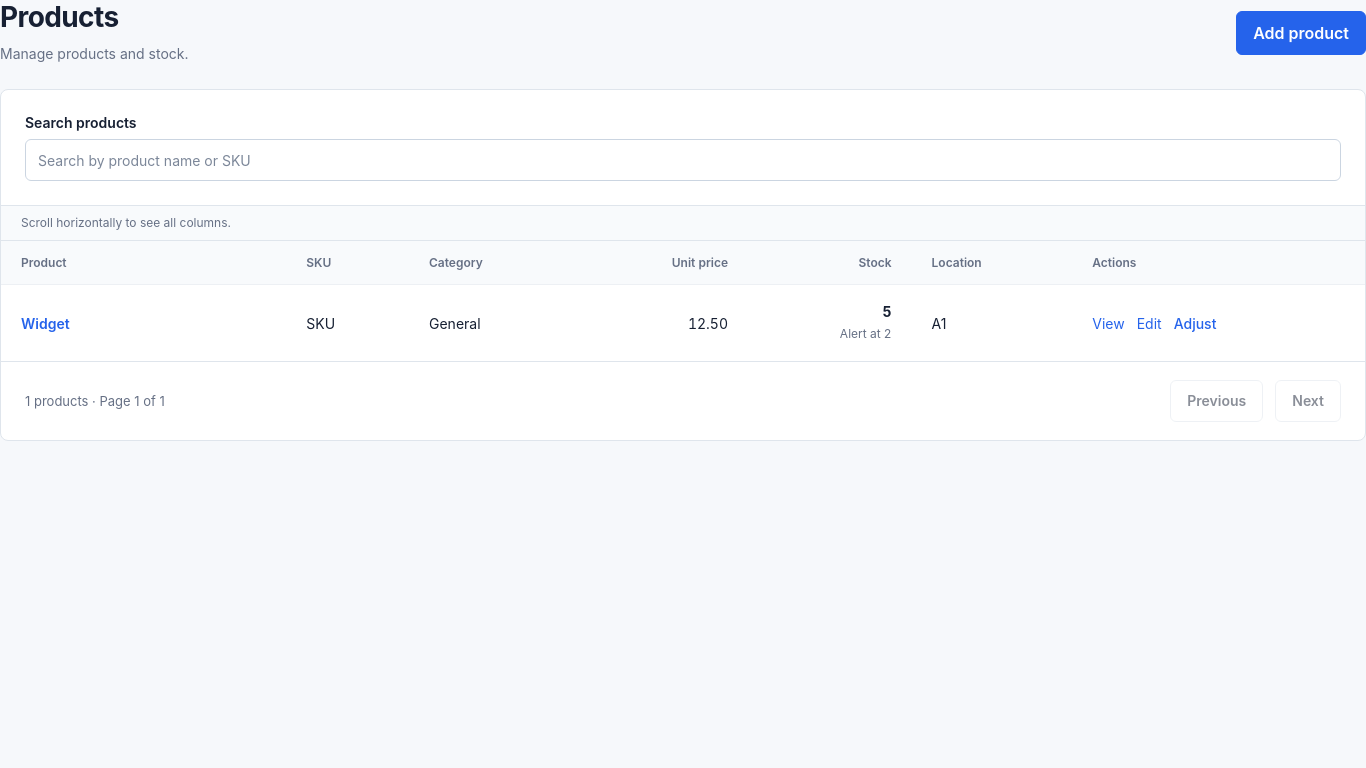
Test case: keeps adjustment errors and values inside the dialog, then retries the same payload once
Click the button "Adjust".
click(1195, 323)  # box [1174,308,1216,339]
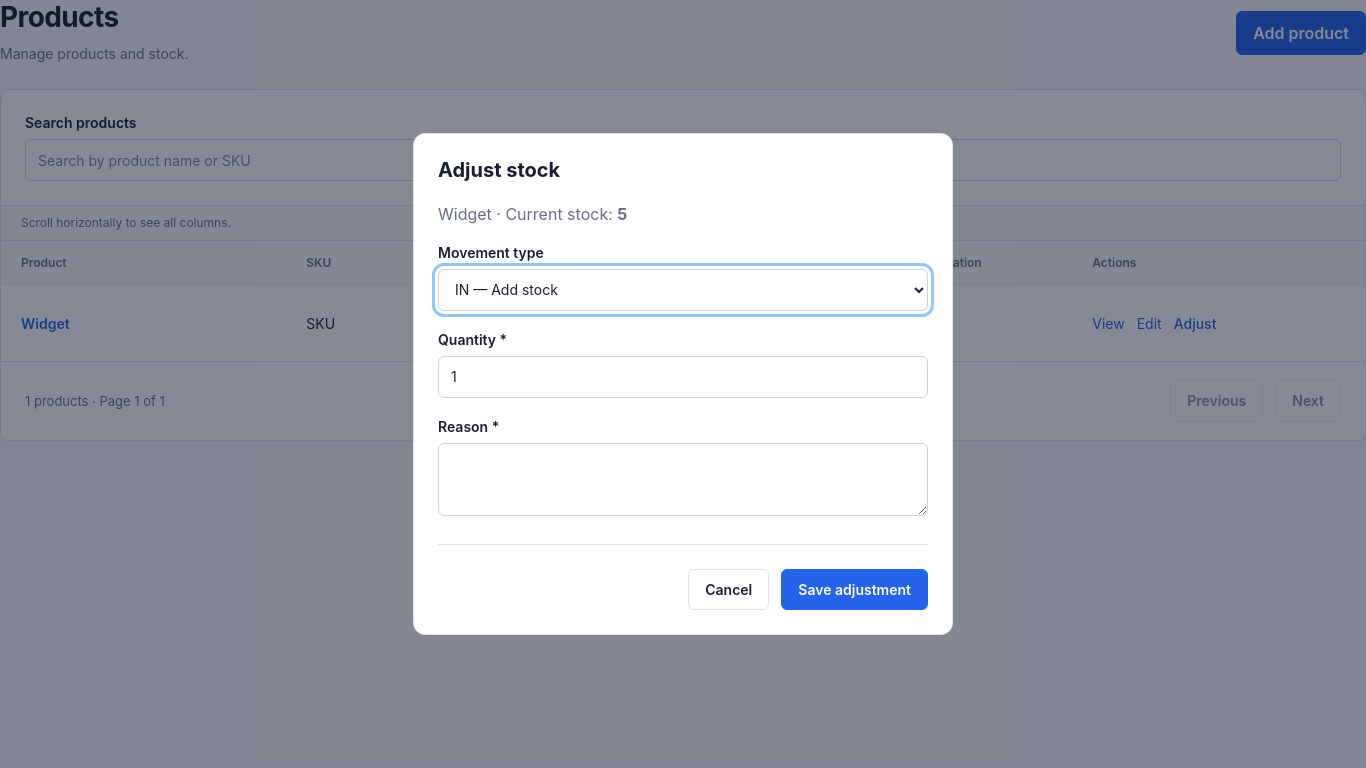
Select "OUT — Remove stock" in the dropdown labelled "Movement type" at (683, 290), box [438,268,928,310]
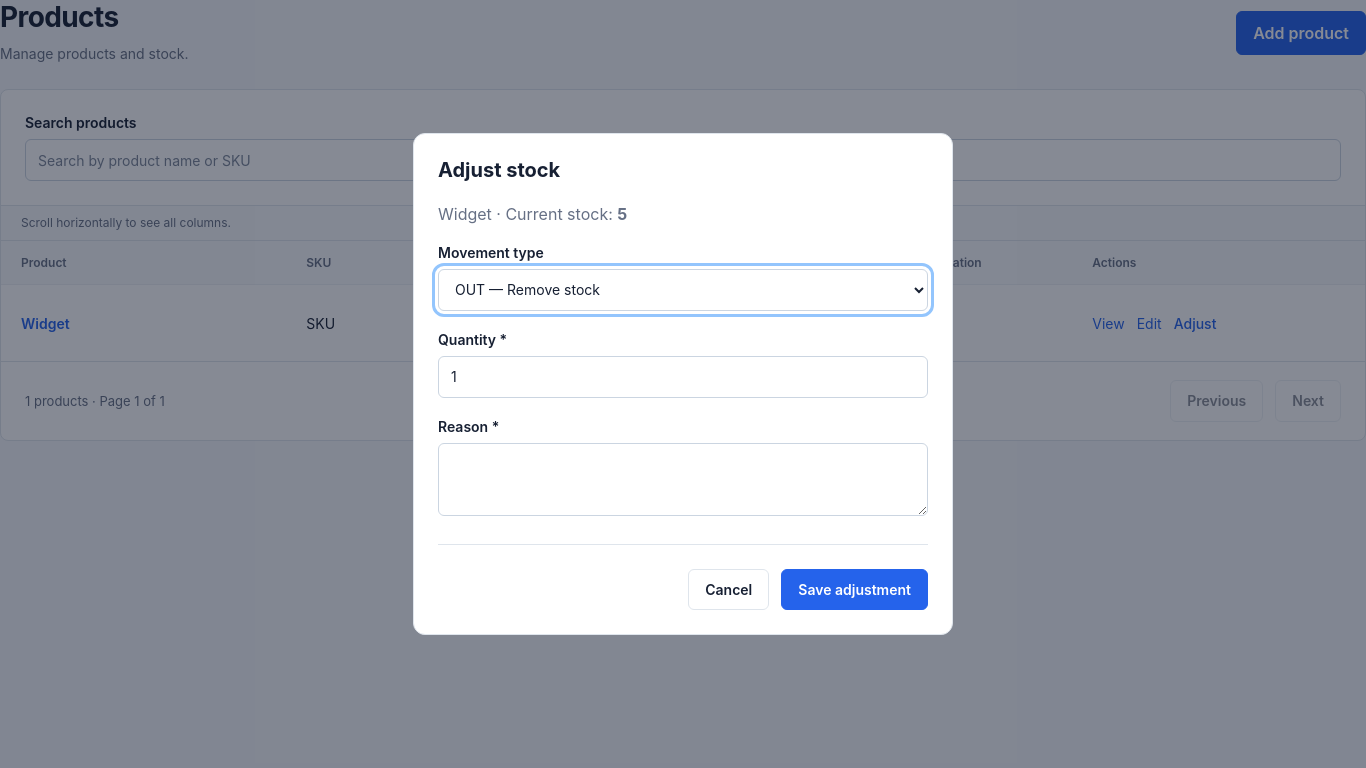
Type "Dispatch correction" into the text box labelled "Reason *".
click(683, 479); type("Dispatch correction")  # box [438,442,928,516]
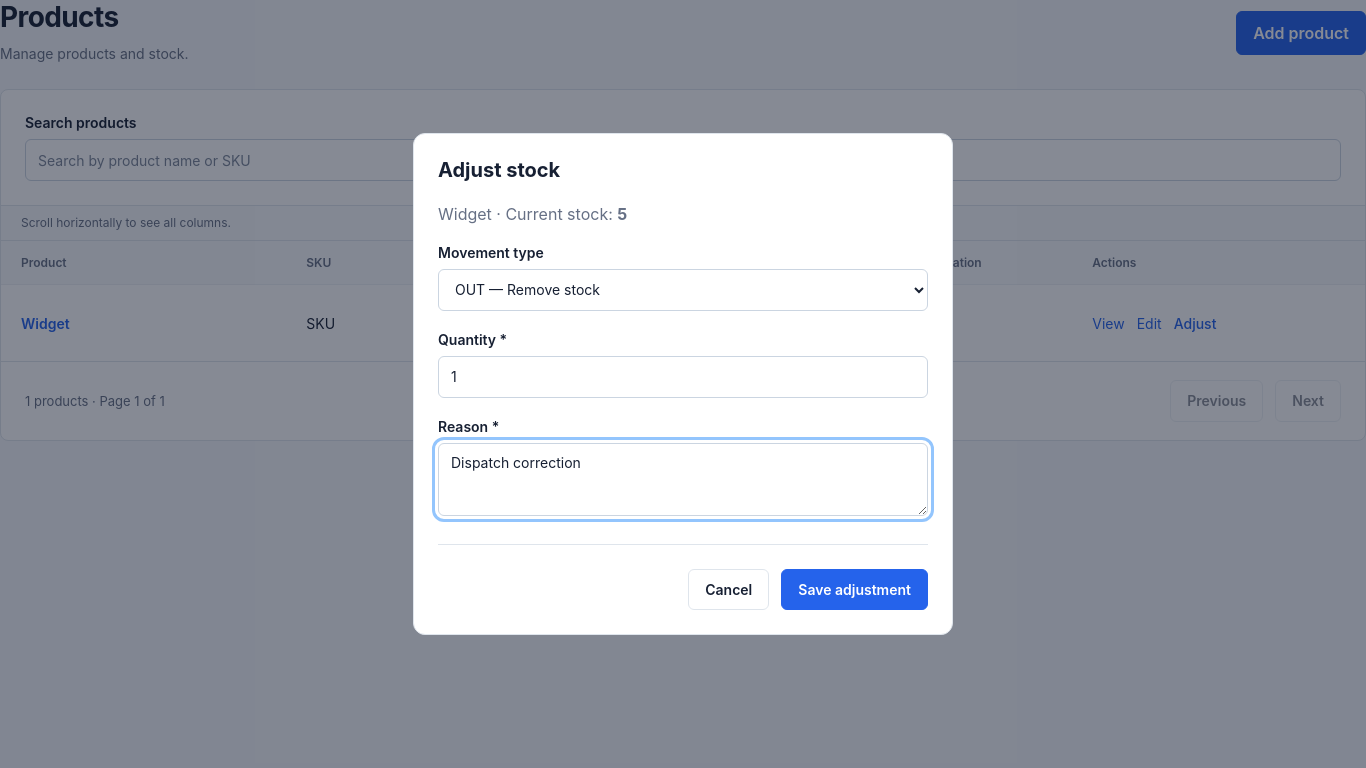
Click the button "Save adjustment".
click(855, 589)  # box [781,568,928,610]
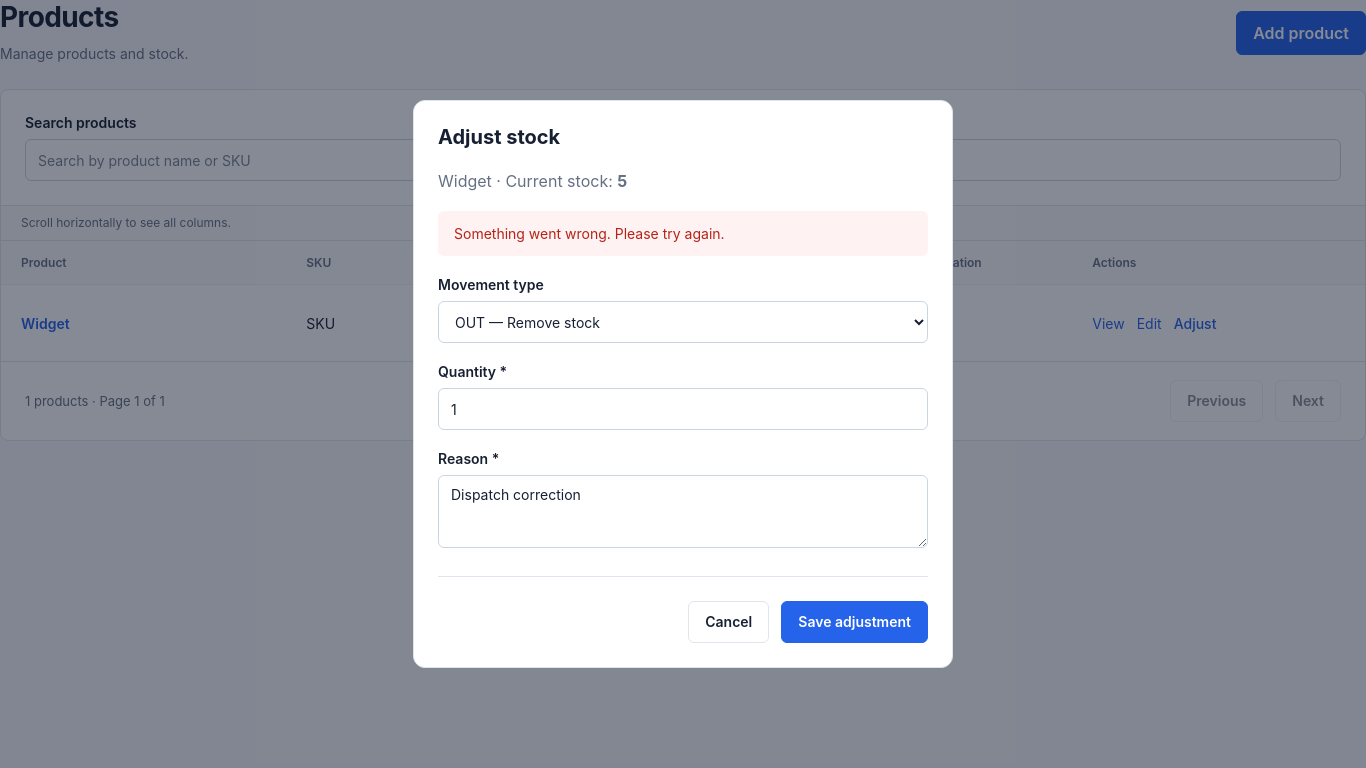
Now the message "Something went wrong. Please try again." is shown, box [438,211,928,256]
Click the button "Save adjustment".
click(855, 622)  # box [781,601,928,643]
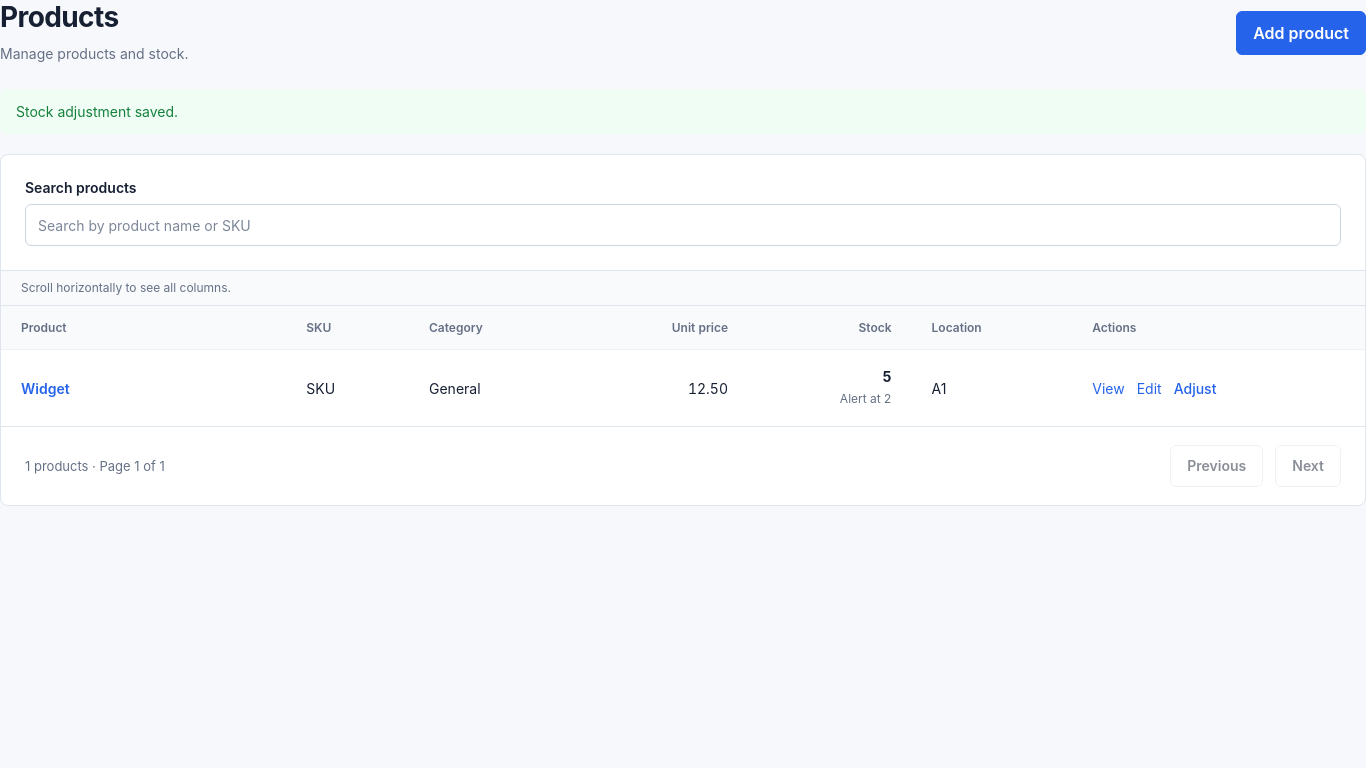
Now the text "Stock adjustment saved." is shown, box [0,89,1365,134]
Now the dialog is gone
